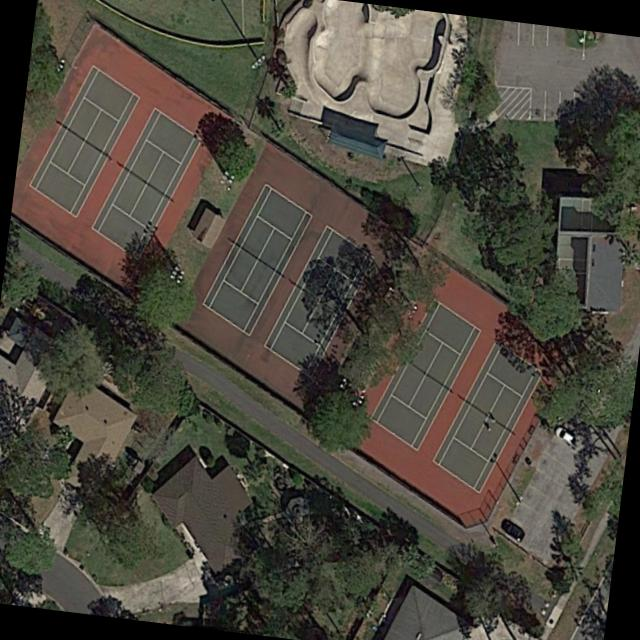small-vehicle: (551, 424, 579, 452), (500, 519, 526, 544)
